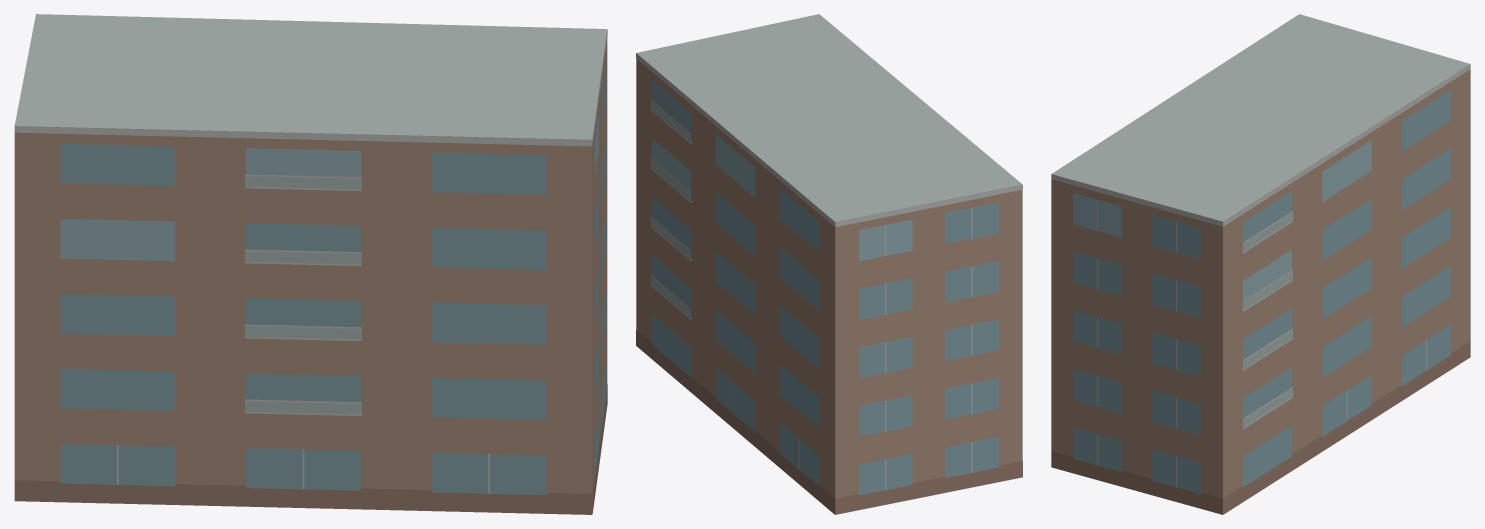
Rendered from survey-upis-32882235.glb.
3 renders of one model, left to right at view 1: azimuth 30°, elevation 25°; view 2: azimuth 150°, elevation 25°; view 3: azimuth 270°, elevation 25°, orthographic. The views are drawn at different scales.
Parts seen in each view (by area): view 1: survey-upis-32882235.tmp; view 2: survey-upis-32882235.tmp; view 3: survey-upis-32882235.tmp.
Part boxes in pixels (<box>): survey-upis-32882235.tmp: <box>14,14,607,514</box>; survey-upis-32882235.tmp: <box>636,14,1022,514</box>; survey-upis-32882235.tmp: <box>1051,14,1470,514</box>.
Size of the model in its own units: 20.96 by 13.8 by 17.88.
